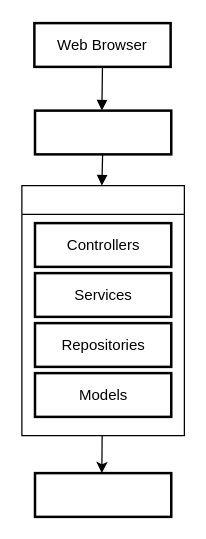
The diagram is 206 pixels wide and 539 high, and some of its shapes have lost their labels. The shapes that lost their labels are listed below. From the top down, each one's box as (x1, y1, x2, y2) in pixels, then its label:
(33, 109, 172, 155): API Gateway
(21, 184, 184, 436): Spring Boot App
(33, 471, 172, 518): MySQL DB
